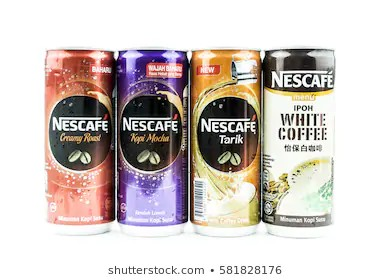nescafe-can: (111, 48, 192, 236), (266, 45, 340, 237), (194, 46, 264, 236), (45, 44, 113, 234)
